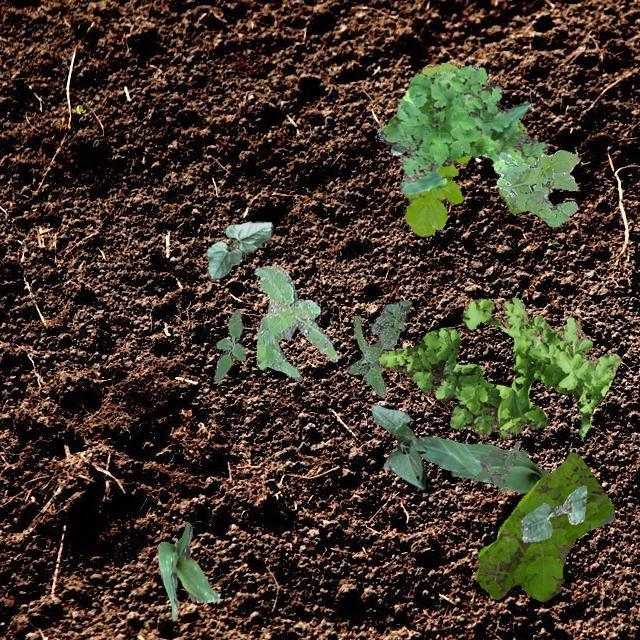crop: (382, 436, 546, 492), (156, 522, 218, 618), (370, 402, 426, 488), (520, 484, 586, 542), (206, 220, 272, 278)
weed: (376, 296, 620, 438), (388, 61, 525, 236), (377, 64, 548, 192), (474, 450, 614, 600), (252, 264, 336, 381), (492, 148, 580, 226), (346, 299, 410, 396), (472, 440, 526, 490), (212, 308, 245, 382), (390, 144, 404, 154)
